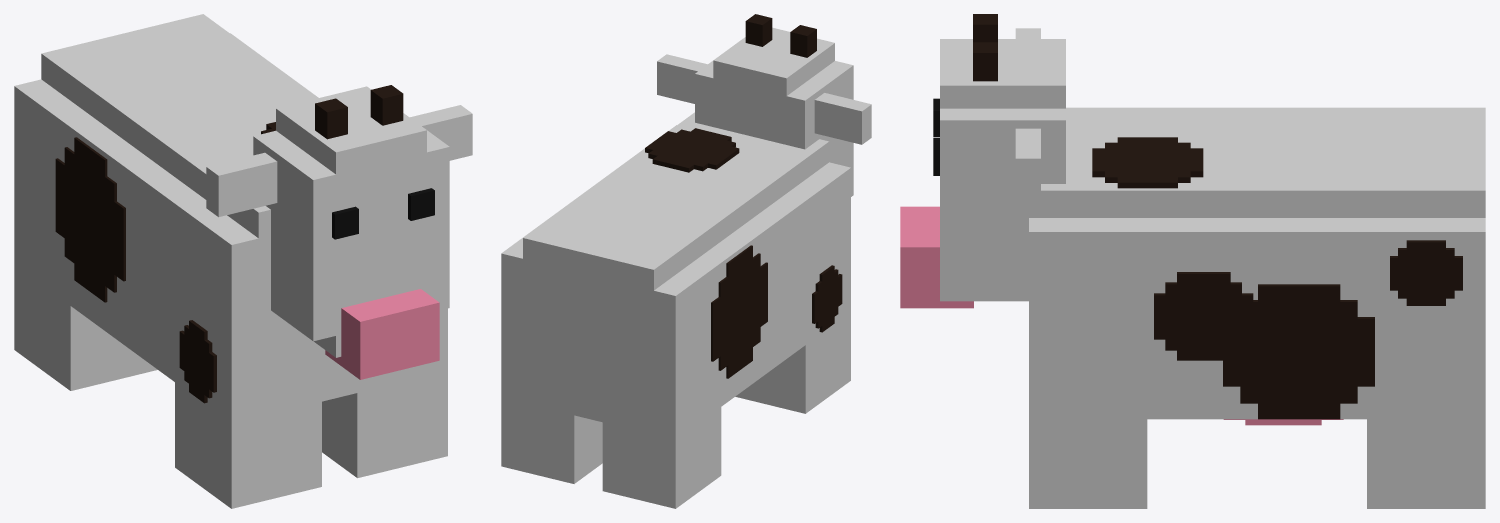
The model's file is Cow.FBX.
3 views of the same model, side by side, from view 1: azimuth 30°, elevation 25°; view 2: azimuth 150°, elevation 25°; view 3: azimuth 270°, elevation 25° (orthographic). The views are drawn at different scales.
Visible parts, largest first — view 1: Box030, Box031, Box040, Box034, Box038, Box045, Box039, Box037, Box036, Box033, Box032; view 2: Box030, Box031, Box040, Box041, Box038, Box039, Box045, Box037, Box036; view 3: Box030, Box031, Box043, Box044, Box041, Box034, Box042, Box039, Box037, Box036.
Part boxes in pixels (x1=…): Box030: x1=14, y1=14, x2=447, y2=508; Box031: x1=253, y1=86, x2=449, y2=357; Box040: x1=55, y1=137, x2=125, y2=302; Box034: x1=325, y1=289, x2=439, y2=379; Box038: x1=206, y1=152, x2=277, y2=217; Box045: x1=179, y1=320, x2=216, y2=403; Box039: x1=410, y1=105, x2=472, y2=160; Box037: x1=370, y1=85, x2=403, y2=125; Box036: x1=315, y1=98, x2=347, y2=139; Box033: x1=408, y1=188, x2=434, y2=220; Box032: x1=332, y1=206, x2=358, y2=239; Box030: x1=501, y1=112, x2=850, y2=508; Box031: x1=695, y1=27, x2=853, y2=196; Box040: x1=711, y1=245, x2=767, y2=378; Box041: x1=645, y1=128, x2=739, y2=172; Box038: x1=814, y1=93, x2=871, y2=144; Box039: x1=657, y1=54, x2=707, y2=103; Box045: x1=812, y1=265, x2=842, y2=332; Box037: x1=745, y1=14, x2=772, y2=46; Box036: x1=790, y1=25, x2=816, y2=57; Box030: x1=1029, y1=107, x2=1485, y2=508; Box031: x1=940, y1=39, x2=1065, y2=301; Box043: x1=1223, y1=284, x2=1374, y2=419; Box044: x1=1154, y1=272, x2=1253, y2=360; Box041: x1=1092, y1=137, x2=1203, y2=188; Box034: x1=900, y1=206, x2=973, y2=308; Box042: x1=1390, y1=240, x2=1462, y2=305; Box039: x1=1015, y1=128, x2=1040, y2=202; Box037: x1=973, y1=42, x2=997, y2=81; Box036: x1=973, y1=14, x2=997, y2=42.
Size of the model in its own units: 41.08 by 61.66 by 77.94.
